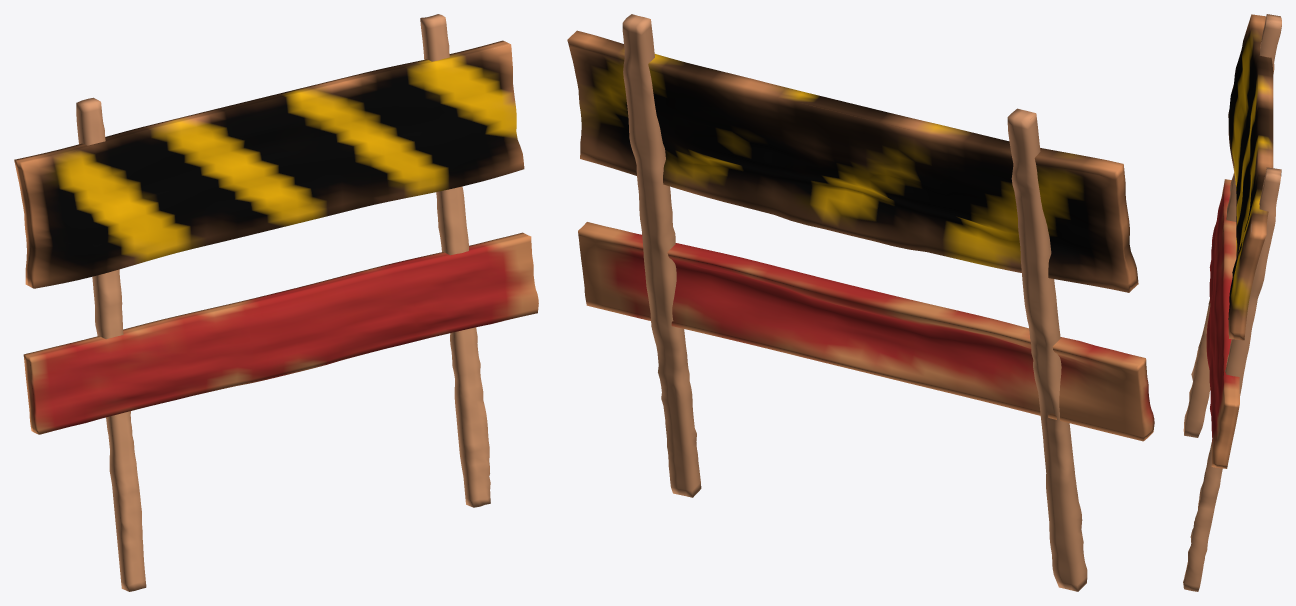
File: Danger .obj
3 views of the same model, side by side, from view 1: azimuth 30°, elevation 25°; view 2: azimuth 150°, elevation 25°; view 3: azimuth 270°, elevation 25° (orthographic). The views are drawn at different scales.
Visible parts, largest first — view 1: Front, Front_1, Top, Left_1, Left; view 2: Back, Back_1, Top, Left_1, Left; view 3: Front, Right_1, Top, Right, Front_1, Top_1.
Part boxes in pixels (x1,y1,x2,y2): Front: (23, 44, 538, 434); Front_1: (84, 17, 490, 591); Top: (14, 40, 530, 358); Left_1: (76, 18, 473, 591); Left: (14, 160, 39, 434); Back: (567, 40, 1143, 441); Back_1: (622, 23, 1078, 591); Top: (567, 30, 1145, 367); Left_1: (641, 19, 1087, 591); Left: (1114, 164, 1154, 440); Front: (1206, 15, 1258, 466); Right_1: (1184, 21, 1281, 591); Top: (1224, 14, 1273, 403); Right: (1212, 232, 1266, 468); Front_1: (1183, 15, 1266, 588); Top_1: (1266, 14, 1281, 177).
Size of the model in its own units: 2.12 by 1.84 by 0.396.
1 material, 1 textured.
